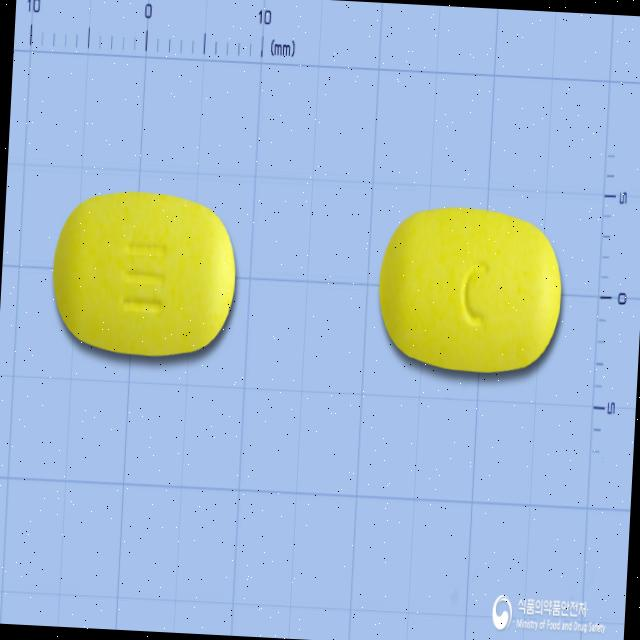Clararoxin: (46, 180, 245, 367), (372, 201, 572, 382)
